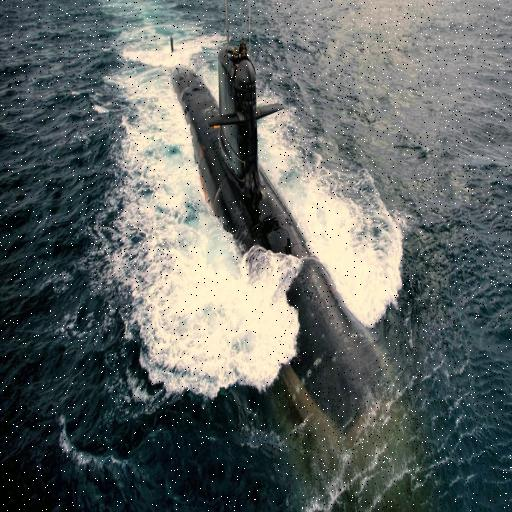submarine: (162, 1, 412, 446)
